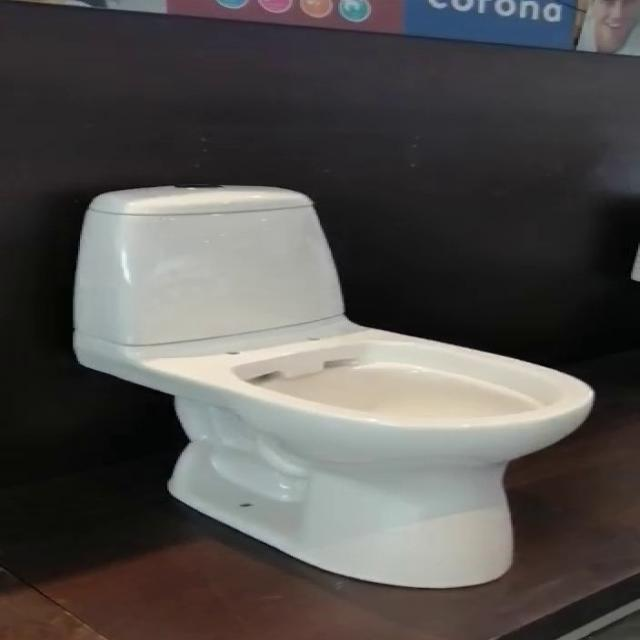toilet: (71, 182, 594, 589)
